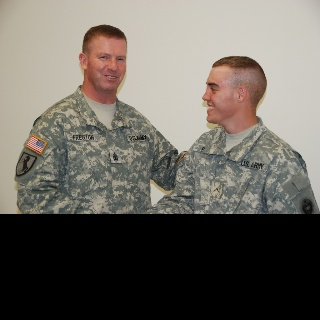without_mask: (86, 38, 126, 93), (201, 68, 237, 123)
